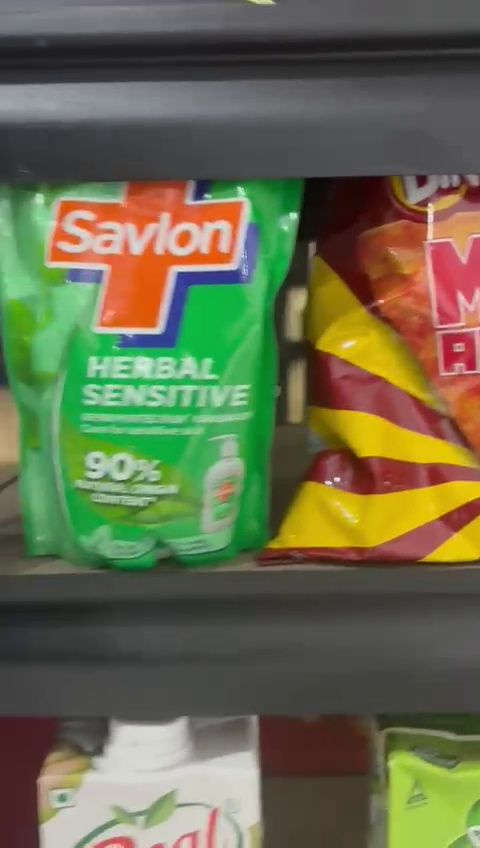Savlon Herbal: (2, 181, 280, 564)
